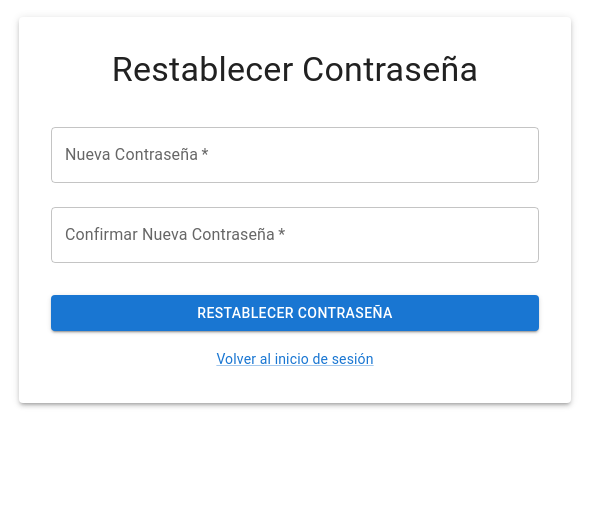
Test case: ResetPassword Component › handles successful password reset
In the password field labelled "Nueva Contraseña *": (295, 155) [51, 127, 539, 183], type "NewPassword123"
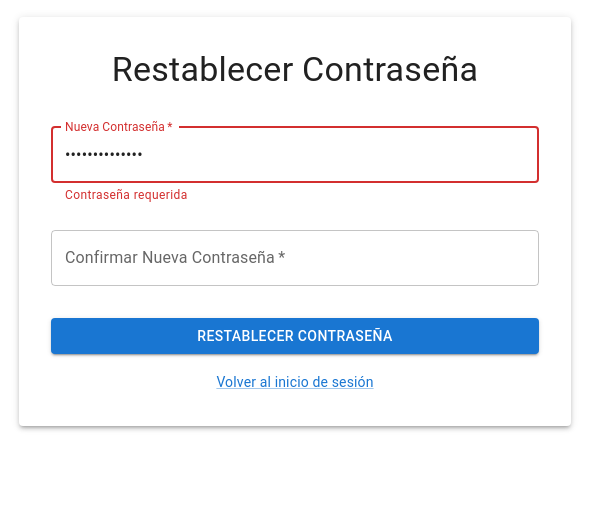
In the password field labelled "Confirmar Nueva Contraseña *": (295, 258) [51, 230, 539, 286], type "NewPassword123"
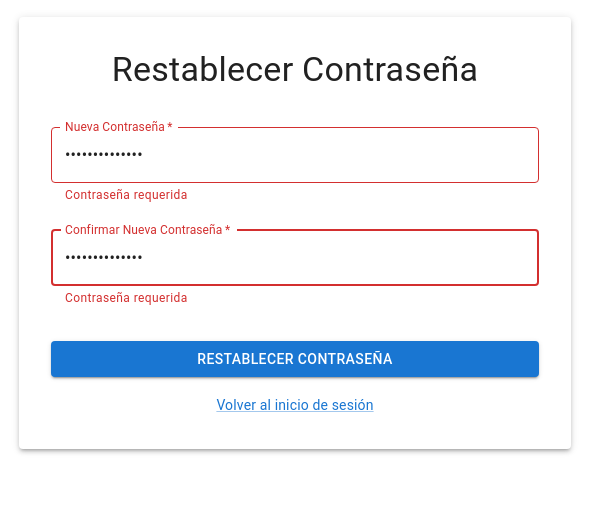
Click the button "Restablecer Contraseña": click(295, 359) [51, 341, 539, 377]
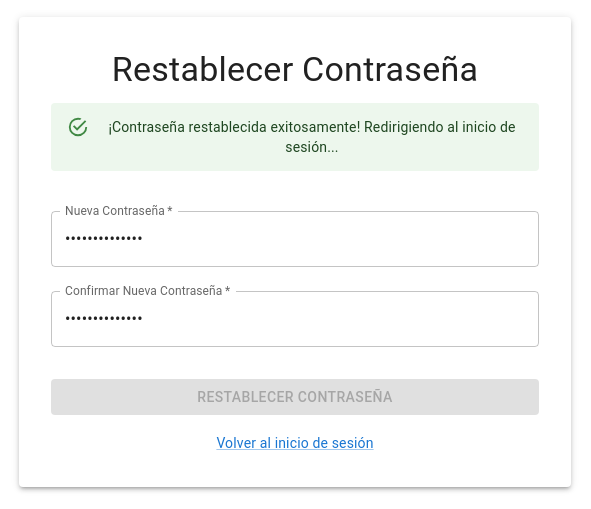
Expected: the text "¡Contraseña restablecida exitosamente!" is shown, [108, 119, 516, 155]
